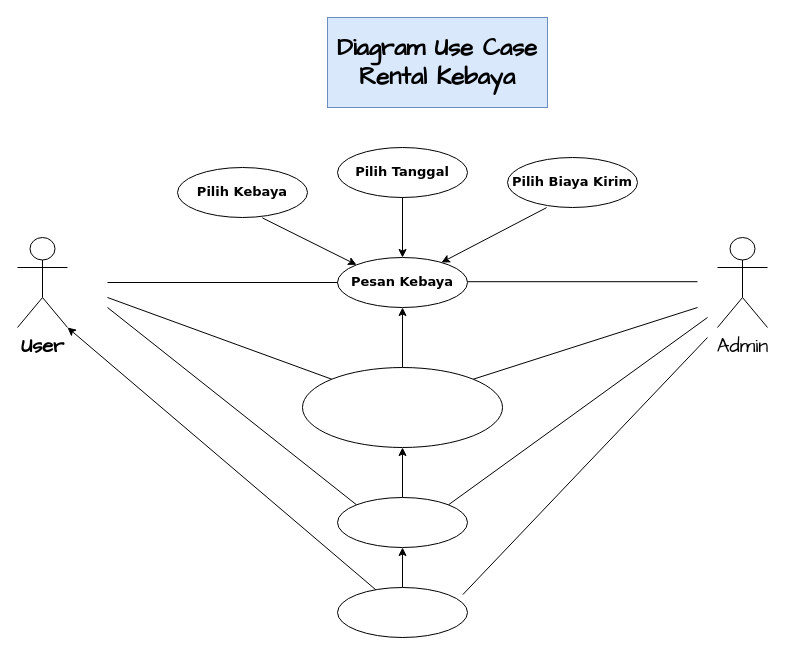
Some shapes in this 786 by 669 pixel diagram are drawn without their labels. Each missing label, with the box of its shape:
Cetak Nota: (336, 586, 468, 638)
Melengkapi Persyaratan: (302, 366, 502, 448)
Pembayaran: (336, 496, 468, 548)
